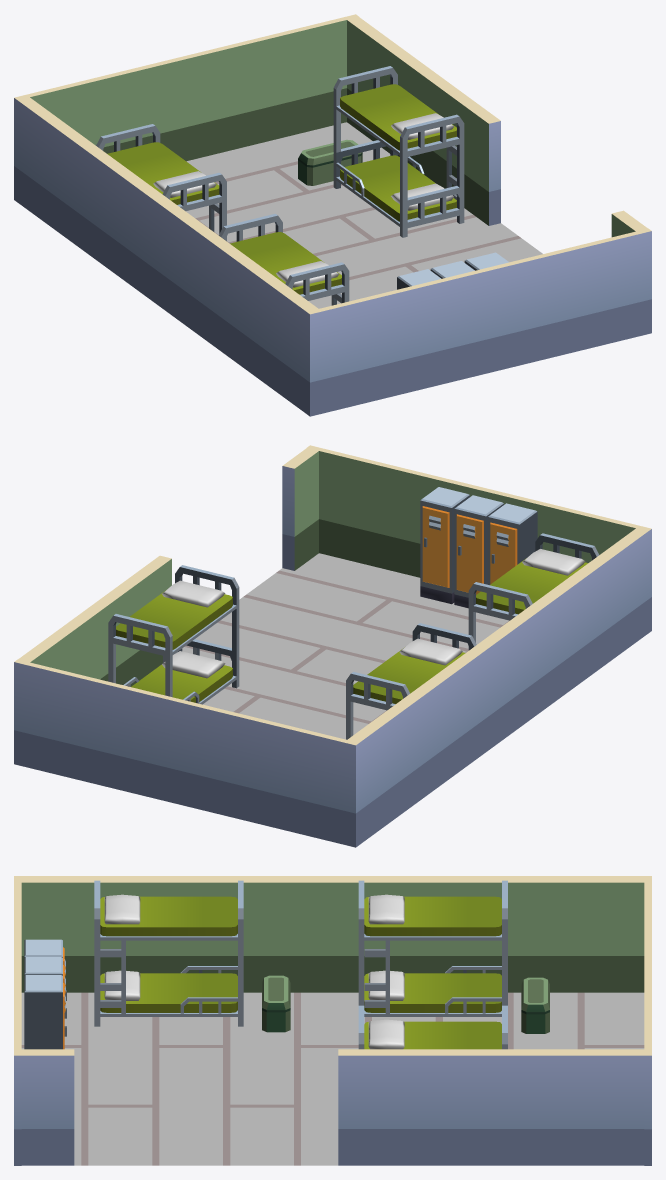
File: Barrack_Lv2_a_Left.fbx
The picture shows the model from 3 angles, top to bottom: view 1: azimuth 30°, elevation 25°; view 2: azimuth 150°, elevation 25°; view 3: azimuth 270°, elevation 25°; orthographic projection. The views are drawn at different scales.
Visible parts, largest first — view 1: Barrack_Lv2_a_Left1, Barrack_Lv2_a_Left6, Barrack_Lv2_a_Left15, Barrack_Lv2_a_Left2, Barrack_Lv2_a_Left18, Barrack_Lv2_a_Left12, Barrack_Lv2_a_Left17, Barrack_Lv2_a_Left16, Barrack_Lv2_a_Left5, Barrack_Lv2_a_Left10; view 2: Barrack_Lv2_a_Left15, Barrack_Lv2_a_Left6, Barrack_Lv2_a_Left2, Barrack_Lv2_a_Left1, Barrack_Lv2_a_Left18, Barrack_Lv2_a_Left12, Barrack_Lv2_a_Left17, Barrack_Lv2_a_Left16, Barrack_Lv2_a_Left5, Barrack_Lv2_a_Left7, Barrack_Lv2_a_Left4, Barrack_Lv2_a_Left13; view 3: Barrack_Lv2_a_Left2, Barrack_Lv2_a_Left6, Barrack_Lv2_a_Left12, Barrack_Lv2_a_Left16, Barrack_Lv2_a_Left17, Barrack_Lv2_a_Left5, Barrack_Lv2_a_Left18, Barrack_Lv2_a_Left7, Barrack_Lv2_a_Left15, Barrack_Lv2_a_Left1, Barrack_Lv2_a_Left3, Barrack_Lv2_a_Left14 (+2 smaller).
Boxes of the visible parts, <box> form: Barrack_Lv2_a_Left1: <box>306,228,651,416</box>; Barrack_Lv2_a_Left6: <box>17,95,321,413</box>; Barrack_Lv2_a_Left15: <box>14,14,358,202</box>; Barrack_Lv2_a_Left2: <box>186,122,542,308</box>; Barrack_Lv2_a_Left18: <box>333,66,464,237</box>; Barrack_Lv2_a_Left12: <box>344,14,500,225</box>; Barrack_Lv2_a_Left17: <box>96,124,226,241</box>; Barrack_Lv2_a_Left16: <box>219,213,349,305</box>; Barrack_Lv2_a_Left5: <box>611,210,651,336</box>; Barrack_Lv2_a_Left10: <box>298,139,362,185</box>; Barrack_Lv2_a_Left15: <box>14,659,359,847</box>; Barrack_Lv2_a_Left6: <box>343,526,651,847</box>; Barrack_Lv2_a_Left2: <box>182,553,509,739</box>; Barrack_Lv2_a_Left1: <box>307,445,651,633</box>; Barrack_Lv2_a_Left18: <box>108,565,239,704</box>; Barrack_Lv2_a_Left12: <box>15,555,171,686</box>; Barrack_Lv2_a_Left17: <box>346,623,476,739</box>; Barrack_Lv2_a_Left16: <box>468,533,599,650</box>; Barrack_Lv2_a_Left5: <box>282,446,320,570</box>; Barrack_Lv2_a_Left7: <box>420,487,469,604</box>; Barrack_Lv2_a_Left4: <box>454,495,503,608</box>; Barrack_Lv2_a_Left13: <box>488,503,537,584</box>; Barrack_Lv2_a_Left2: <box>21,992,644,1165</box>; Barrack_Lv2_a_Left6: <box>14,876,651,992</box>; Barrack_Lv2_a_Left12: <box>338,1049,651,1165</box>; Barrack_Lv2_a_Left16: <box>94,880,243,1026</box>; Barrack_Lv2_a_Left17: <box>358,880,507,1016</box>; Barrack_Lv2_a_Left5: <box>21,1049,74,1165</box>; Barrack_Lv2_a_Left18: <box>358,1005,507,1049</box>; Barrack_Lv2_a_Left7: <box>24,975,66,1049</box>; Barrack_Lv2_a_Left15: <box>644,876,651,1165</box>; Barrack_Lv2_a_Left1: <box>14,882,21,1165</box>; Barrack_Lv2_a_Left3: <box>262,975,290,1032</box>; Barrack_Lv2_a_Left14: <box>521,977,549,1033</box>.
Bounding box in the file's own units: 700 × 212 × 1050.
